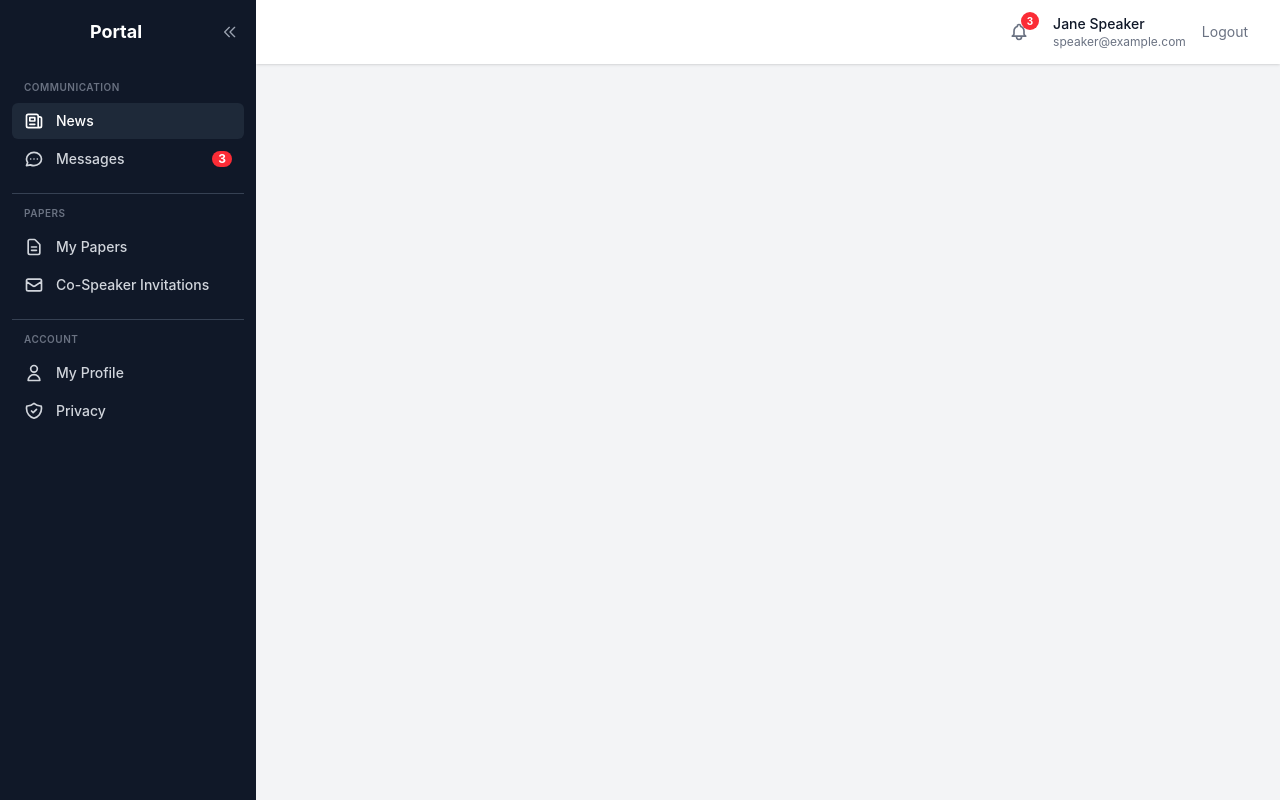
Test case: PortalLayout — notification bell dropdown › shows summary text and a "View all messages" link when unread > 0
Click the button named "Notifications": (1019, 32) [1001,14,1037,50]
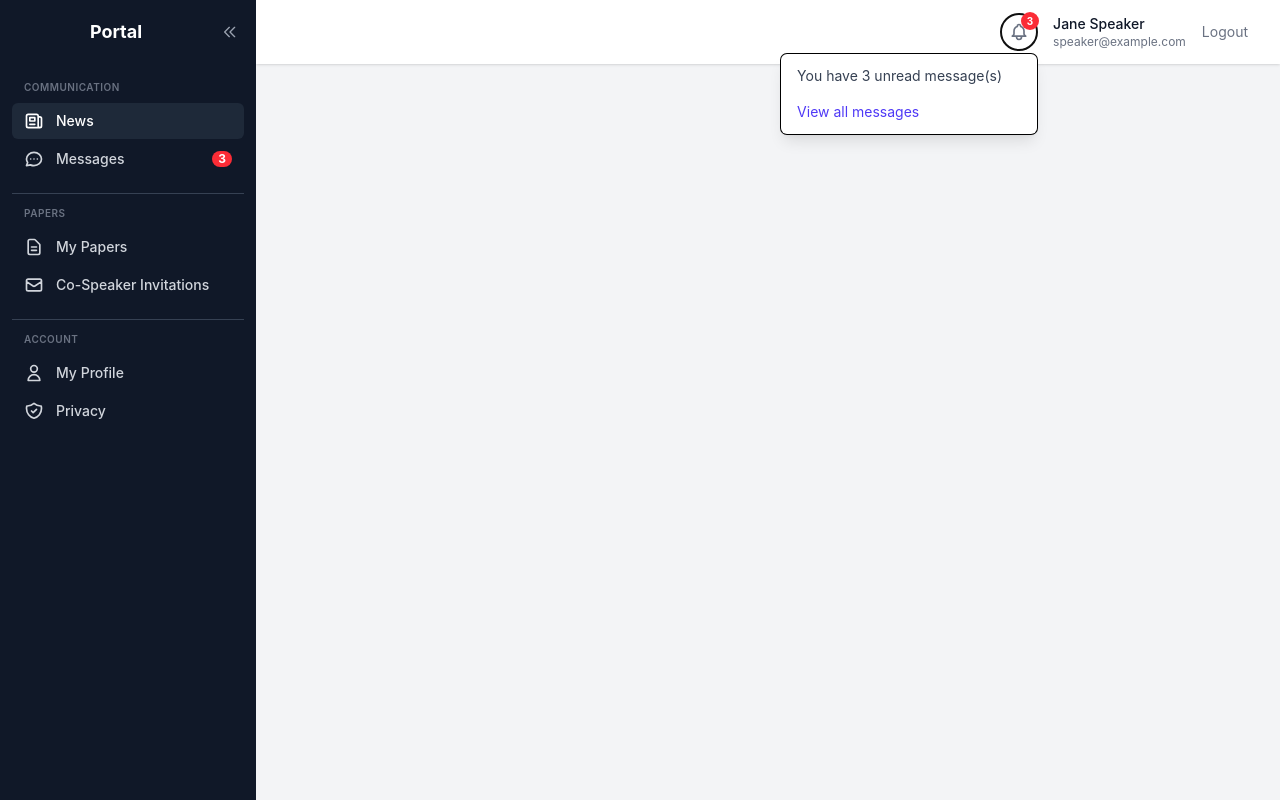
Now the menu item "You have 3 unread message(s)" is shown, box [797,67,1002,84]
